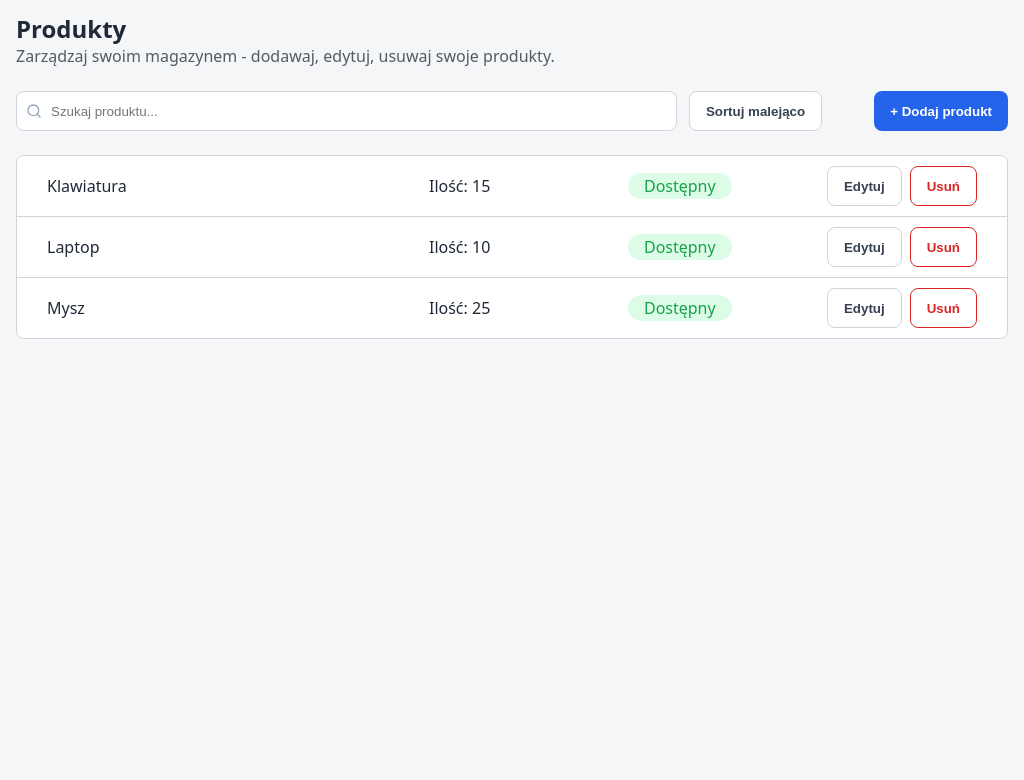
Test case: keeps the product when deletion is cancelled
Click the button "Usuń" in the row of "Laptop": {"x": 943, "y": 247} [910, 227, 977, 267]
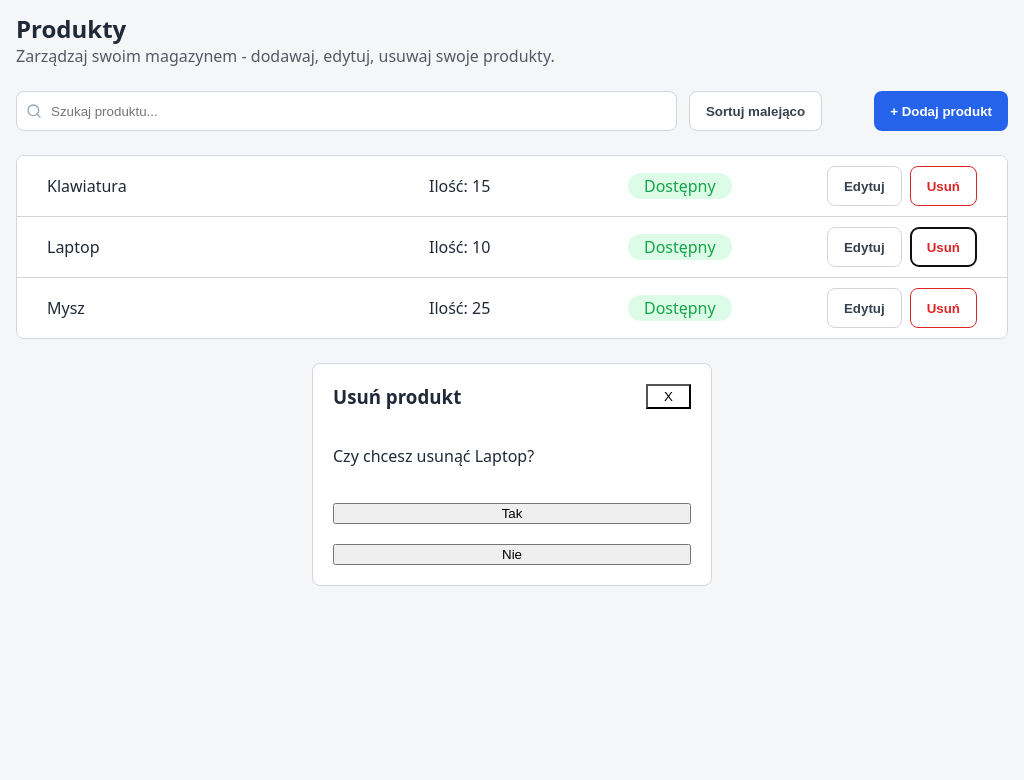
Click the button "Nie": {"x": 512, "y": 554} [333, 544, 691, 565]
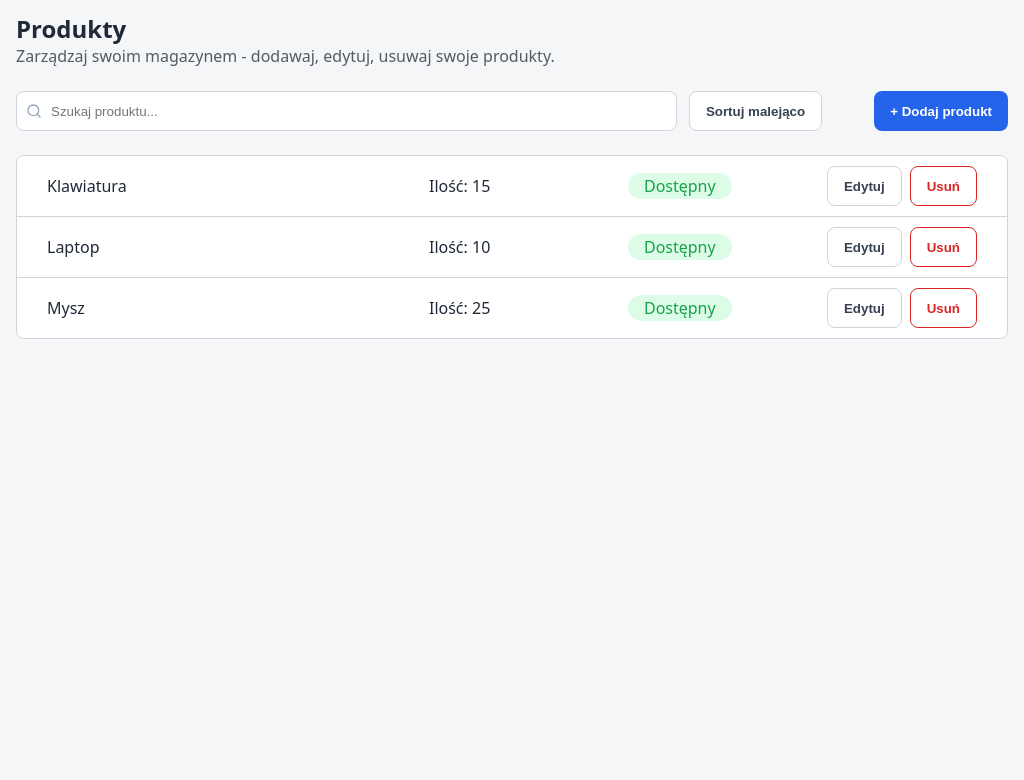
Expected: the text "Laptop" is shown, [47, 236, 100, 258]
Expected: the heading "Usuń produkt" is gone
